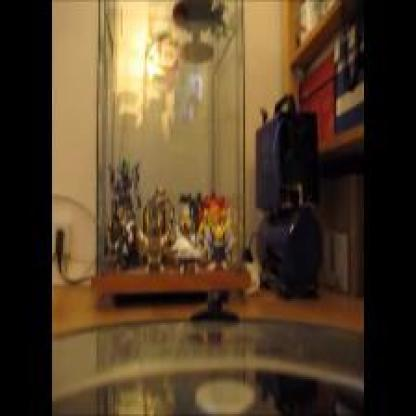other: (111, 12, 173, 101), (202, 190, 232, 242)
